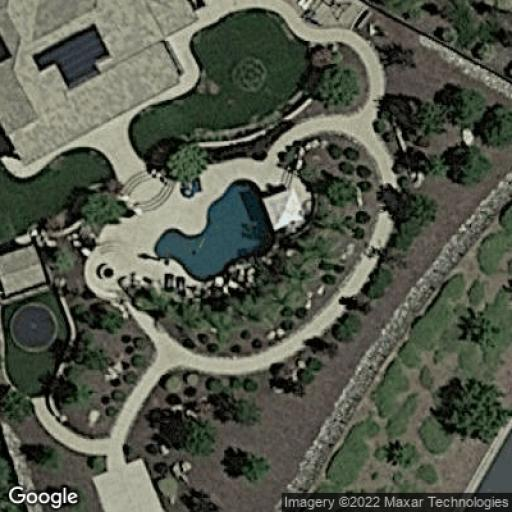solar-panel: (30, 20, 111, 92)
